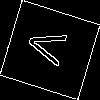V: (25, 24, 76, 70)
